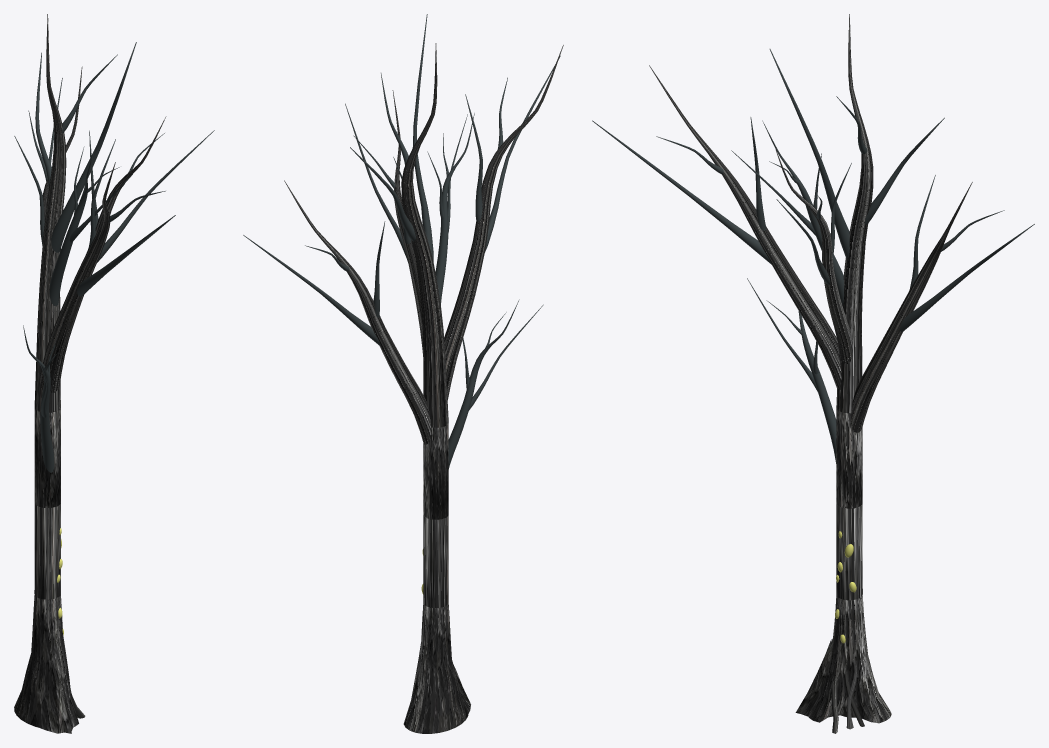
Rendered from Tree_02.fbx.
The picture shows the model from 3 angles, left to right: view 1: azimuth 30°, elevation 25°; view 2: azimuth 150°, elevation 25°; view 3: azimuth 270°, elevation 25°; orthographic projection. The views are drawn at different scales.
Visible parts, largest first — view 1: Tree_Top_02; view 2: Tree_Top_02; view 3: Tree_Top_02.
Part boxes in pixels (x1,y1,x2,y2): Tree_Top_02: [14, 14, 214, 733]; Tree_Top_02: [243, 14, 563, 733]; Tree_Top_02: [592, 14, 1034, 733].
Size of the model in its own units: 4.2 by 14.75 by 8.4.
